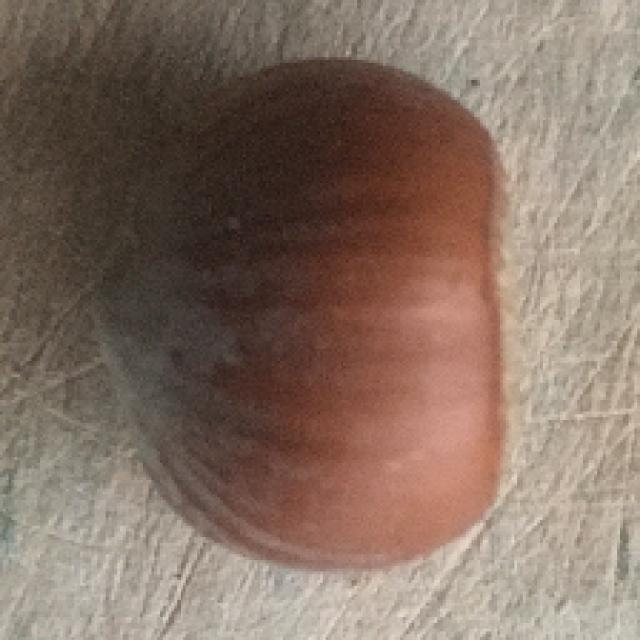qualityHazelnut: (95, 59, 518, 576)
